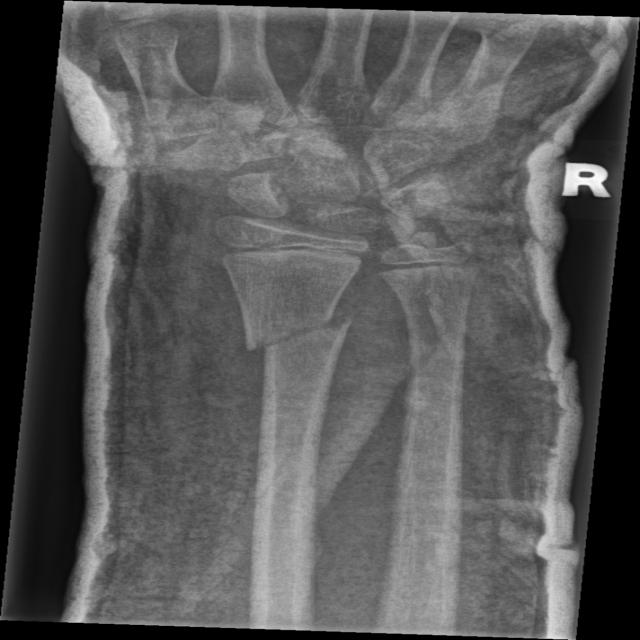radius fracture: (217, 290, 377, 416)
